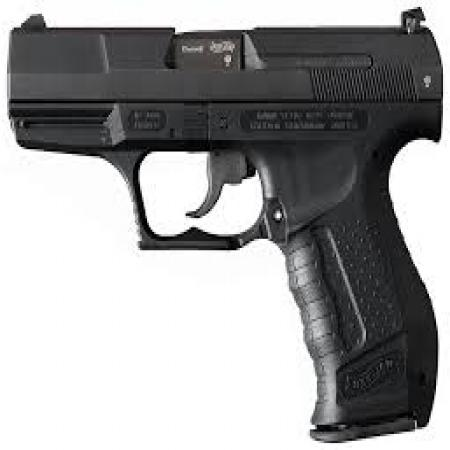Pistol: (1, 7, 440, 443)
